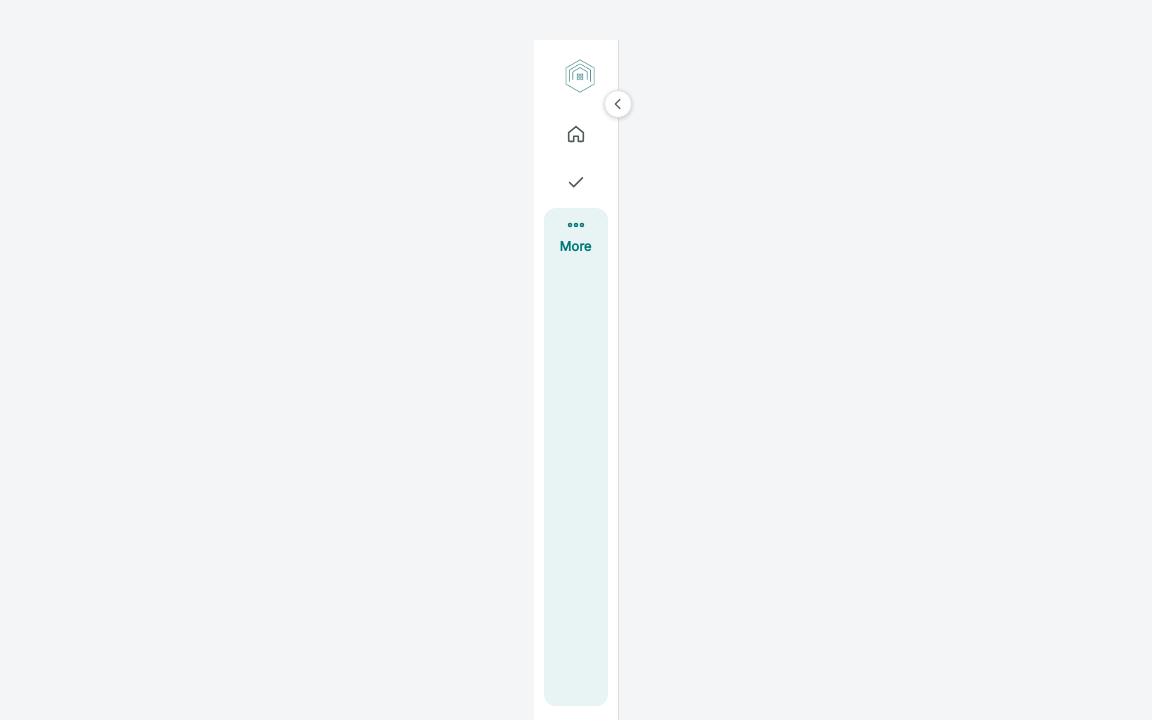
Test: the navigation on a phone › puts what does not fit behind a More button, in a sheet of links
Expected: the link "Devices" is not shown
Step 1. Click the button "More" → (576, 457), box x1=544 y1=208 x2=608 y2=706
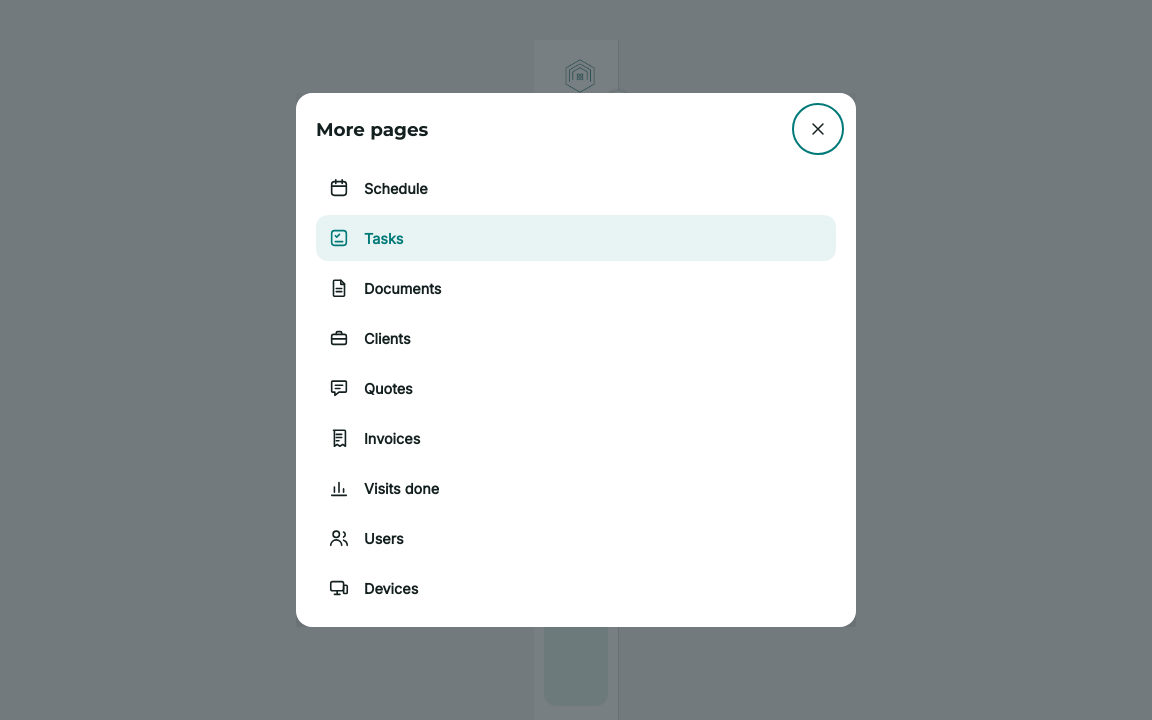
Step 2. Click the link "Devices" → (373, 588), box x1=328 y1=577 x2=418 y2=599
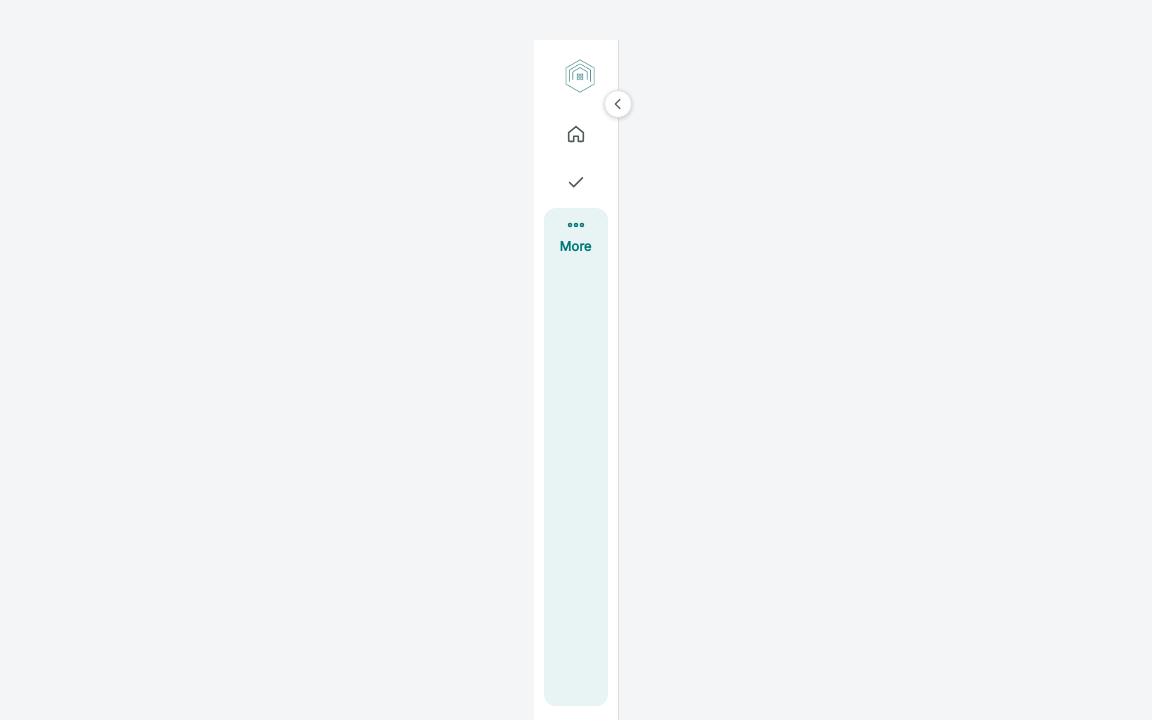
Result: the dialog is gone
